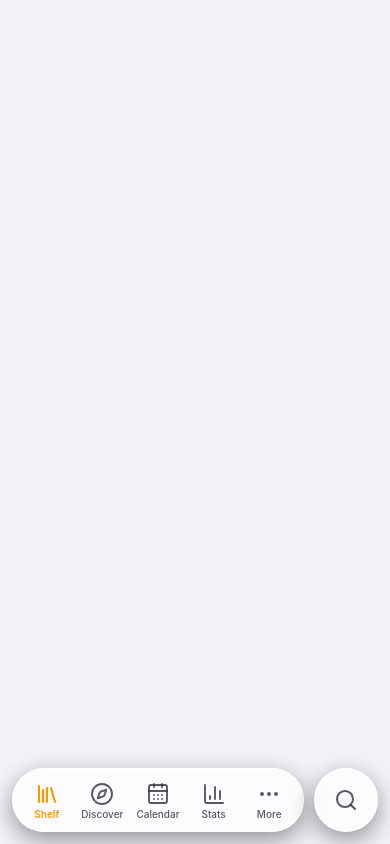
Test case: MobileTabBar › closes when a destination behind More is chosen
The width and height of the screenshot is (390, 844).
Click the button "More" at (269, 800), box [241,769,297,831]
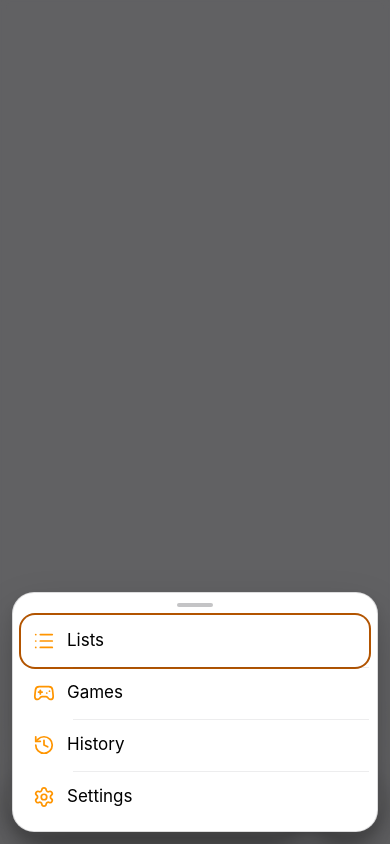
Click the link "Settings" at (83, 797), box [33,786,132,808]
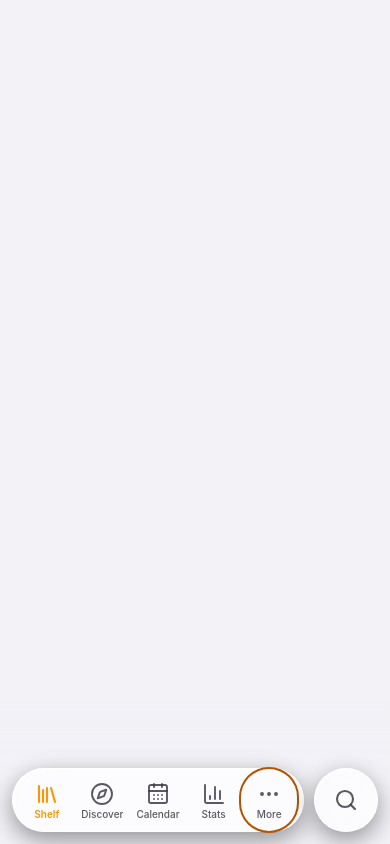
Expected: the dialog is gone
